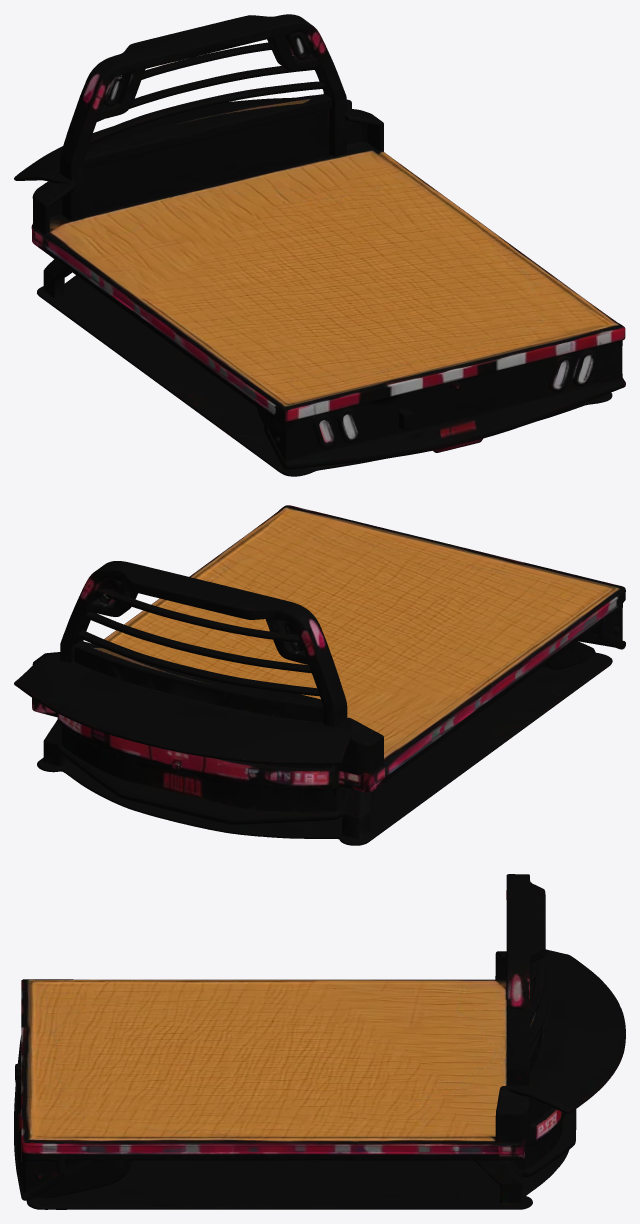
3 views of the same model, one above another, from view 1: azimuth 30°, elevation 25°; view 2: azimuth 150°, elevation 25°; view 3: azimuth 270°, elevation 25° (orthographic).
Parts seen in each view (by area): view 1: texture_pbr_v128; view 2: texture_pbr_v128; view 3: texture_pbr_v128.
Part boxes in pixels (x1,y1,x2,y2): texture_pbr_v128: (14,14,625,476); texture_pbr_v128: (14,505,625,845); texture_pbr_v128: (14,874,625,1209).
Bounding box in the file's own units: 0.6417 × 0.3968 × 1.01.
1 material, 1 textured.
